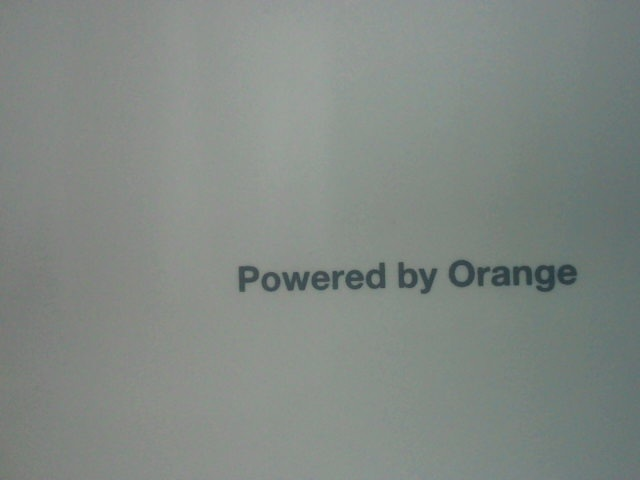AS_PowerByOrange: (208, 254, 596, 314)
